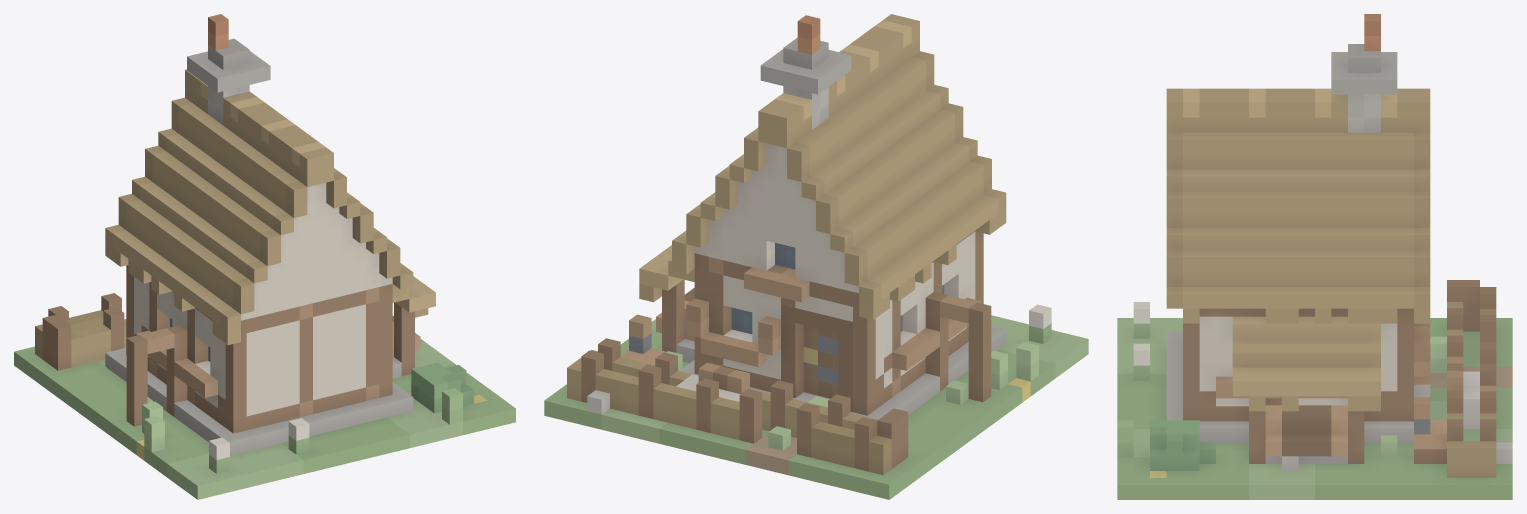
The model's file is house_settlers.v1.glb.
3 views of the same model, side by side, from view 1: azimuth 30°, elevation 25°; view 2: azimuth 150°, elevation 25°; view 3: azimuth 270°, elevation 25° (orthographic). The views are drawn at different scales.
Visible parts, largest first — view 1: house_settlers; view 2: house_settlers; view 3: house_settlers.
Part boxes in pixels (x1,y1,x2,y2): house_settlers: [14, 14, 515, 499]; house_settlers: [544, 14, 1088, 499]; house_settlers: [1117, 14, 1512, 499].
Bounding box in the file's own units: 3 × 3.25 × 3.
